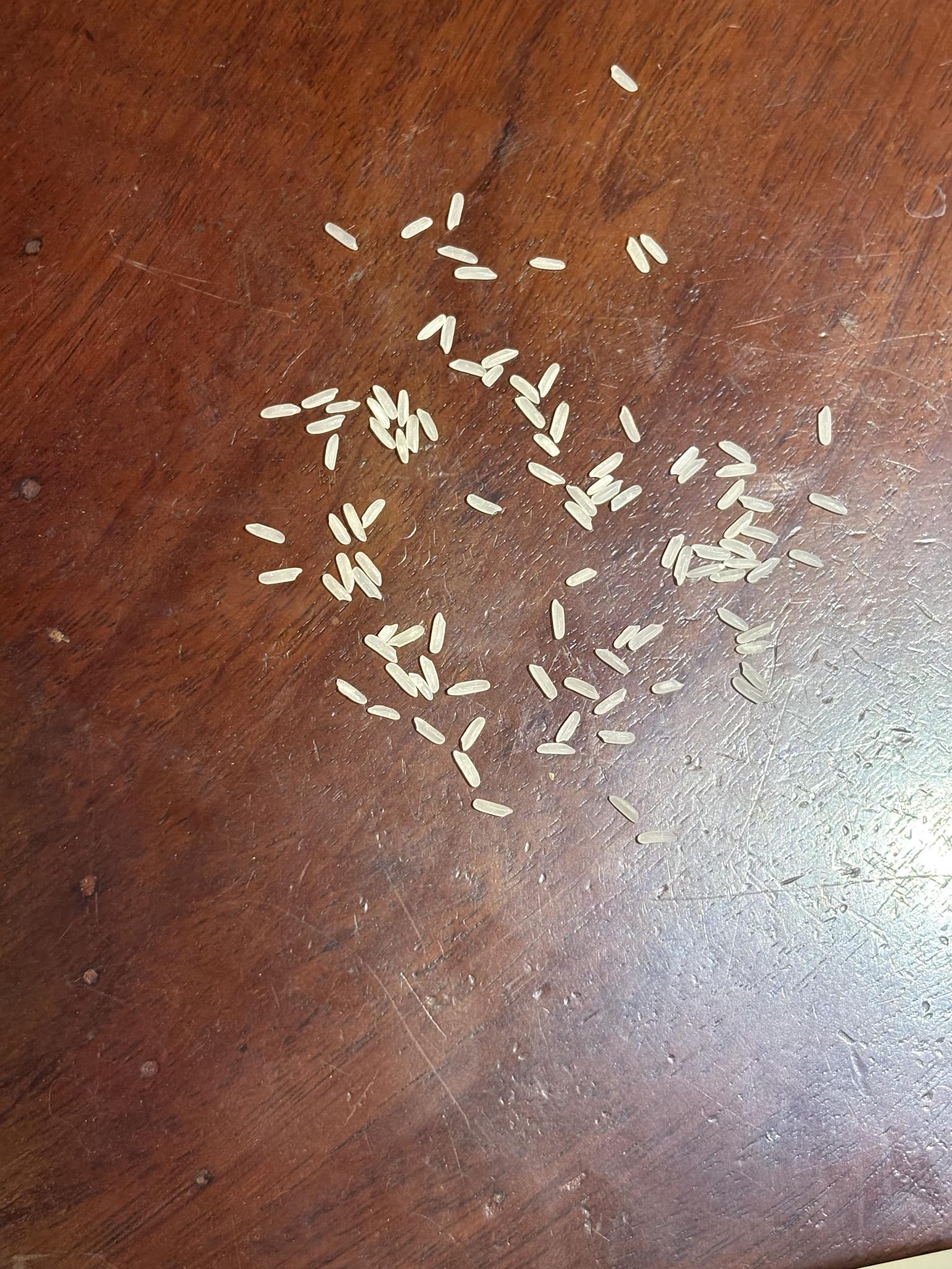Rice-th-y-nh: (386, 663, 418, 696), (452, 750, 480, 786), (529, 664, 557, 698), (516, 397, 545, 428), (567, 485, 596, 516), (732, 677, 765, 704), (510, 375, 540, 404), (365, 635, 398, 661), (356, 552, 382, 585), (343, 504, 366, 541), (595, 649, 629, 674), (629, 624, 663, 649), (354, 568, 381, 599), (373, 385, 397, 419), (670, 447, 699, 475), (718, 480, 745, 510), (609, 795, 639, 822), (369, 418, 395, 449), (325, 223, 356, 249), (594, 690, 627, 714), (461, 717, 485, 750), (528, 463, 564, 485), (322, 574, 351, 601), (626, 238, 649, 272), (414, 718, 444, 744), (809, 494, 848, 514), (590, 454, 623, 477), (724, 512, 753, 538), (611, 486, 641, 511), (337, 679, 367, 704), (737, 623, 774, 643), (748, 559, 780, 582), (619, 407, 640, 442), (610, 65, 637, 92), (641, 235, 667, 263), (566, 502, 592, 530), (662, 534, 684, 567), (246, 524, 284, 543), (438, 246, 478, 264), (420, 656, 440, 692), (564, 678, 598, 699), (674, 547, 693, 584), (551, 403, 569, 442), (389, 626, 424, 646), (742, 662, 767, 690), (557, 712, 580, 742), (328, 514, 351, 544), (592, 482, 622, 505), (307, 416, 345, 434), (720, 441, 751, 463), (417, 316, 445, 340), (417, 408, 438, 440), (539, 364, 560, 396), (302, 389, 337, 408), (473, 799, 512, 816), (678, 459, 706, 482), (368, 398, 390, 427), (718, 608, 747, 630), (402, 217, 432, 238), (448, 680, 490, 695), (482, 349, 517, 367), (337, 554, 354, 591), (550, 599, 566, 638), (410, 673, 433, 700), (259, 569, 300, 584), (467, 495, 501, 513), (720, 538, 754, 556), (362, 500, 385, 526), (614, 625, 640, 648), (450, 359, 485, 376), (743, 526, 777, 543), (441, 316, 456, 353), (534, 434, 559, 456), (261, 404, 300, 418), (789, 550, 823, 566), (447, 194, 463, 228), (692, 545, 730, 559), (740, 496, 773, 512), (716, 463, 756, 476), (538, 741, 575, 755), (818, 407, 832, 444), (566, 569, 596, 586), (324, 435, 339, 469), (431, 614, 444, 653), (638, 831, 677, 844), (455, 267, 497, 279), (406, 415, 419, 452), (395, 429, 409, 463), (687, 565, 722, 578), (588, 476, 613, 494), (368, 705, 400, 719), (396, 391, 409, 425), (599, 731, 634, 743), (530, 258, 565, 270), (326, 401, 360, 413), (725, 557, 759, 569), (483, 366, 503, 386), (710, 571, 746, 582), (736, 643, 769, 654), (652, 681, 682, 693), (378, 625, 397, 640)
